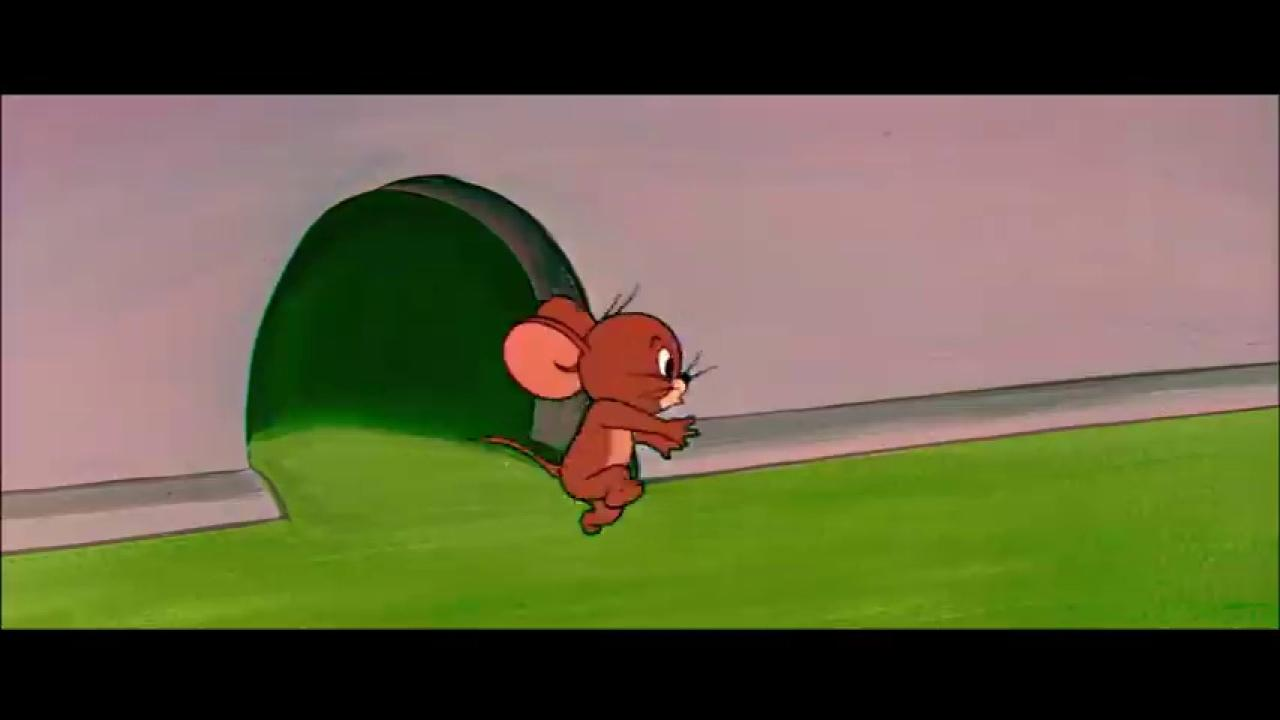Jerry: (466, 293, 704, 539)
